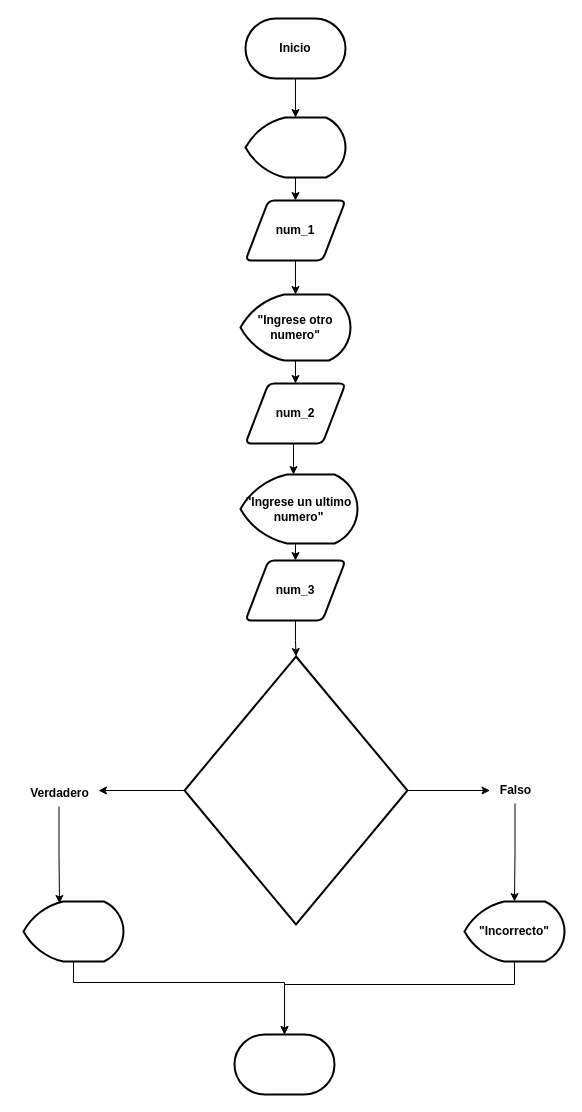
This 582x1112 diagram has some shape labels left out. Here are the shapes that lost their labels. From the top down, the centre of each, then its label:
pixel 295 147: "Ingrese un numero"
pixel 295 790: num_1 == 30 | | num_2 == 30 | | num_3 == 30 | | num_1 + num_2 + num_3 == 30
pixel 73 931: "Correcto"
pixel 284 1064: Fin
